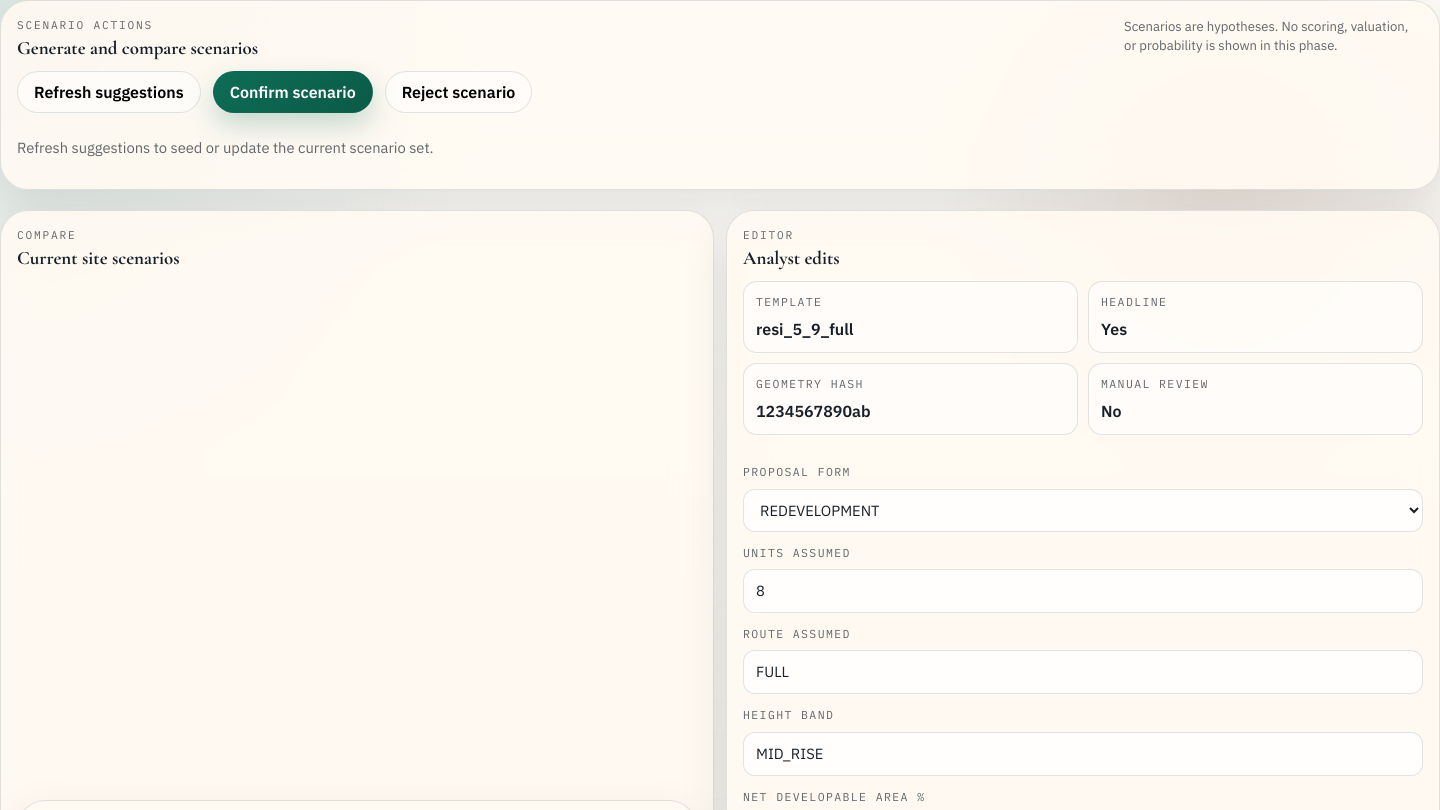
SiteScenarioEditor › refreshes suggestions without excluded templates
Click the button "Refresh suggestions": (109, 92) [17,71,201,113]
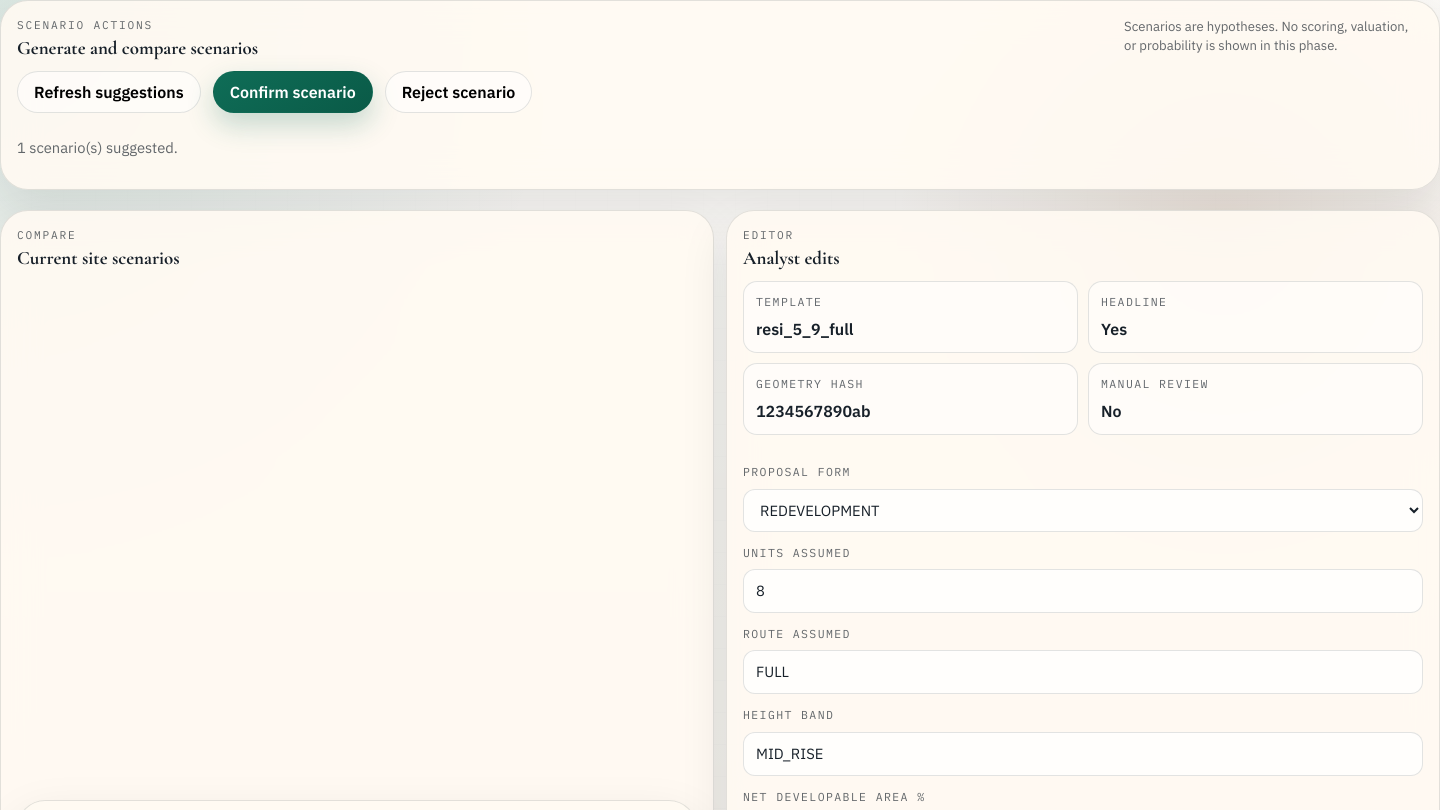
Expected: the text "1 scenario(s) suggested." is shown, [17,138,178,157]
